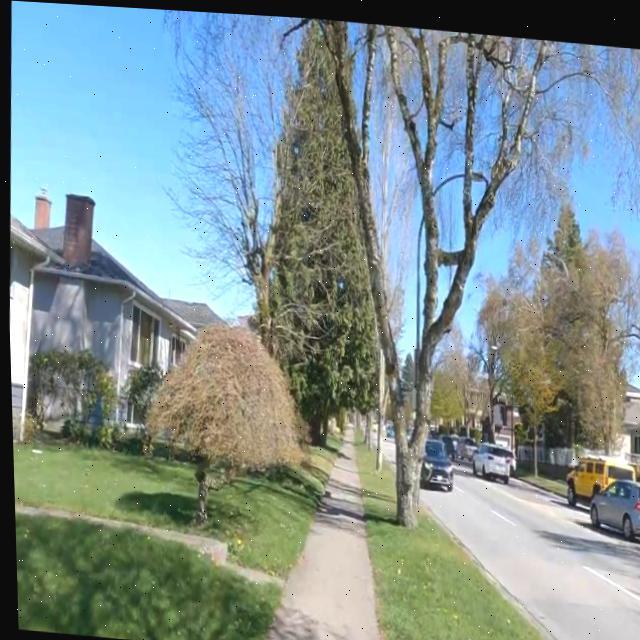Automobile: (563, 447, 632, 498), (588, 471, 640, 532), (417, 434, 450, 483), (470, 437, 508, 476), (455, 432, 473, 456)
Road: (418, 460, 640, 640)
Sidewalk: (261, 432, 376, 640)
